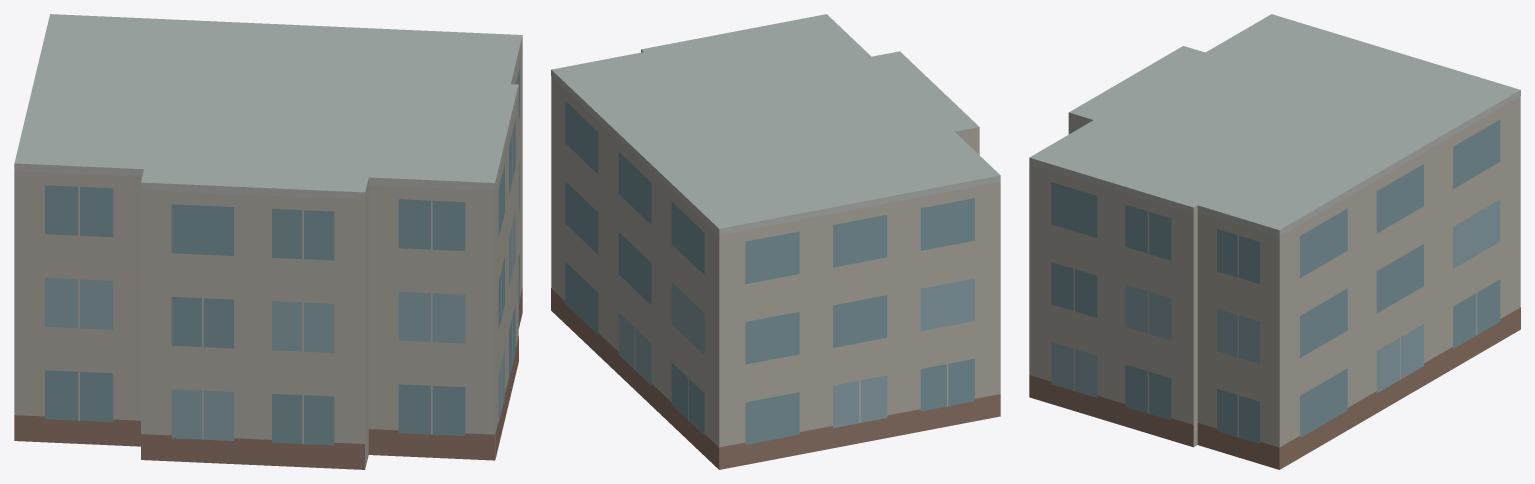
Rendered from survey-upis-32708084.glb.
3 views of the same model, side by side, from view 1: azimuth 30°, elevation 25°; view 2: azimuth 150°, elevation 25°; view 3: azimuth 270°, elevation 25° (orthographic). The views are drawn at different scales.
Visible parts, largest first — view 1: survey-upis-32708084.tmp; view 2: survey-upis-32708084.tmp; view 3: survey-upis-32708084.tmp.
Part boxes in pixels (x1,y1,x2,y2): survey-upis-32708084.tmp: [14, 14, 522, 469]; survey-upis-32708084.tmp: [551, 14, 1000, 469]; survey-upis-32708084.tmp: [1029, 14, 1520, 469].
Bounding box in the file's own units: 17.71 × 9.15 × 17.01.
